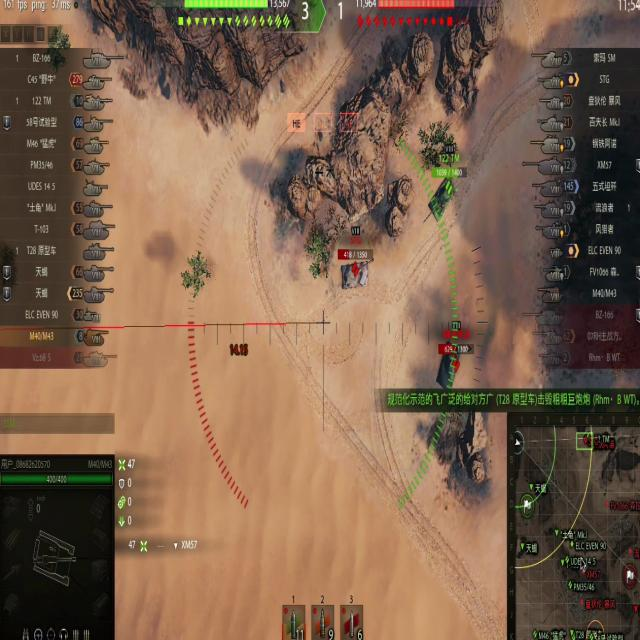tank: (336, 247, 380, 297), (433, 343, 470, 393)
